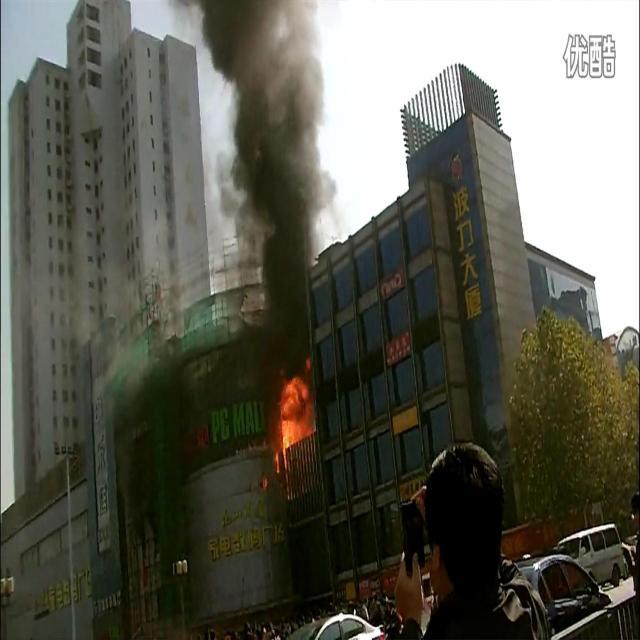Fire: (274, 373, 316, 474)
Smoke: (76, 1, 338, 437)
